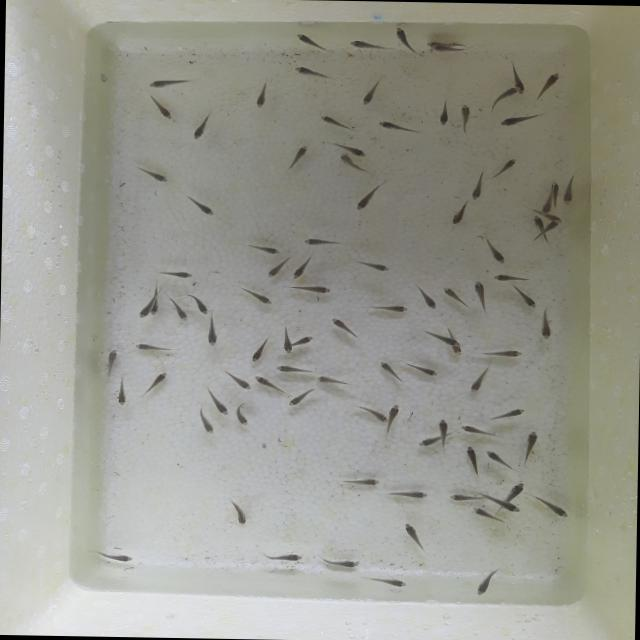fingerling: (398, 520, 432, 554), (465, 279, 495, 314), (389, 26, 419, 60), (293, 60, 334, 84), (468, 508, 508, 532), (220, 500, 254, 528), (473, 562, 500, 596), (533, 72, 562, 102), (352, 187, 381, 216), (238, 286, 275, 308), (292, 32, 329, 54), (345, 35, 390, 53), (92, 544, 132, 564), (250, 376, 290, 396), (371, 118, 421, 134), (481, 449, 517, 471), (146, 95, 174, 123), (496, 110, 539, 128), (147, 74, 195, 90), (351, 258, 393, 276), (538, 494, 569, 518), (190, 112, 214, 143), (460, 423, 506, 439), (220, 369, 252, 392), (332, 318, 364, 341), (464, 368, 490, 396), (272, 358, 312, 376), (432, 94, 453, 128), (134, 339, 178, 355), (190, 408, 217, 434), (143, 370, 172, 394), (286, 145, 312, 171), (187, 194, 216, 217), (433, 416, 452, 451), (437, 286, 467, 308), (489, 85, 520, 106), (459, 446, 482, 474), (264, 258, 292, 281), (240, 240, 282, 255), (486, 493, 519, 512), (514, 283, 538, 309), (482, 241, 508, 265), (386, 488, 430, 502), (522, 428, 540, 462), (424, 329, 460, 346), (458, 98, 474, 136), (322, 553, 362, 568), (254, 550, 304, 562), (558, 176, 578, 206), (289, 258, 315, 281), (358, 81, 380, 108), (362, 300, 411, 312), (372, 358, 398, 380), (339, 152, 361, 178), (208, 387, 228, 415), (403, 362, 437, 378), (385, 401, 400, 437), (235, 400, 254, 428), (490, 270, 528, 284), (336, 140, 369, 156), (536, 316, 556, 342), (158, 267, 195, 281), (137, 168, 171, 183), (364, 576, 410, 587), (484, 346, 526, 358), (415, 286, 436, 310), (430, 45, 470, 57), (489, 407, 528, 419), (468, 173, 486, 199), (492, 156, 518, 174), (318, 113, 349, 128), (285, 283, 331, 293), (296, 236, 342, 246), (248, 339, 266, 364), (358, 406, 386, 422), (116, 375, 130, 407), (448, 203, 466, 227), (345, 474, 380, 486), (286, 391, 314, 406), (314, 375, 355, 385), (446, 492, 480, 504), (105, 346, 119, 375), (256, 82, 270, 111), (504, 482, 524, 502), (188, 292, 206, 314), (208, 316, 220, 348), (174, 298, 190, 322), (134, 296, 150, 320), (280, 326, 292, 356), (542, 219, 559, 239), (539, 192, 552, 217), (292, 334, 319, 346), (426, 38, 466, 46), (418, 434, 440, 448), (549, 179, 560, 207), (526, 216, 544, 232), (514, 68, 524, 95), (446, 344, 466, 356), (152, 291, 160, 316), (545, 214, 565, 224)
